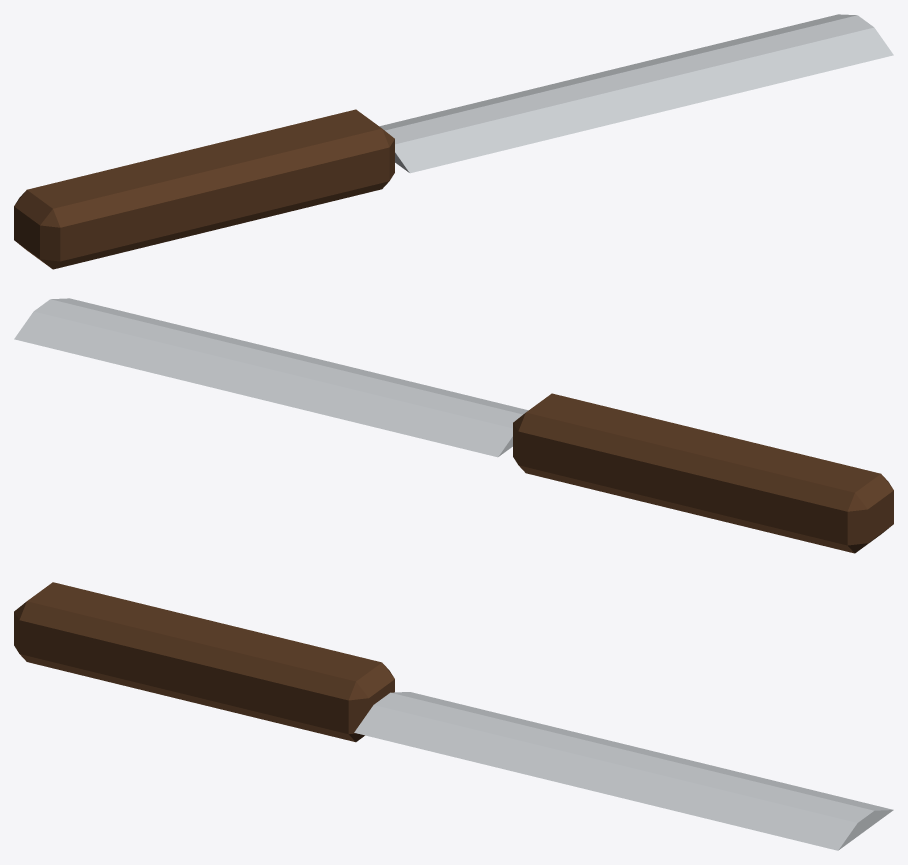
The model's file is knife.glb.
3 views of the same model, one above another, from view 1: azimuth 30°, elevation 25°; view 2: azimuth 150°, elevation 25°; view 3: azimuth 330°, elevation 25° (orthographic).
Visible parts, largest first — view 1: Item; view 2: Item; view 3: Item.
Part boxes in pixels (left/top/right/bottom): Item: left=14, top=14, right=893, bottom=269; Item: left=14, top=298, right=893, bottom=553; Item: left=14, top=582, right=893, bottom=850.
Bounding box in the file's own units: 0.26 × 0.018 × 0.03.
